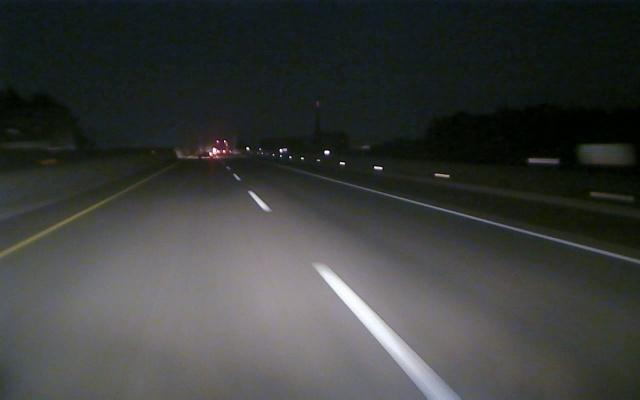lane: (249, 188, 462, 400), (347, 183, 638, 265), (0, 172, 160, 258)
